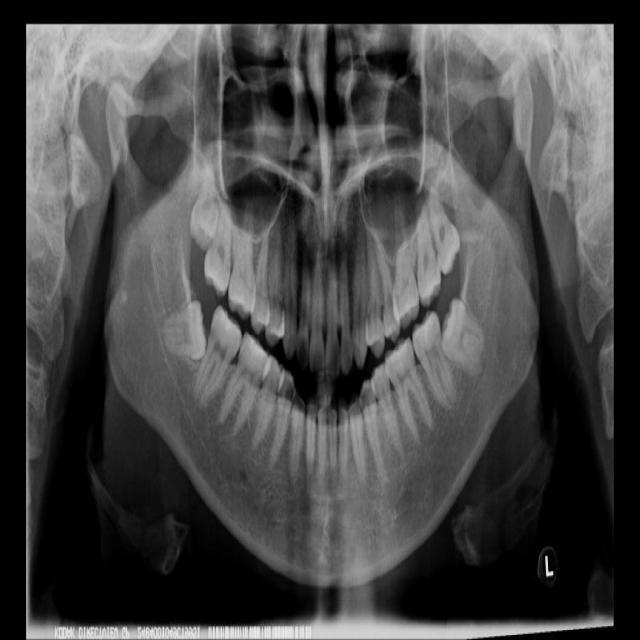3M ESPE Implant: (188, 143, 223, 252)
73: (620, 611, 630, 620)
BioHorizons Implant: (413, 195, 444, 308)
BioLife Implant: (422, 182, 467, 276)
Biomet 3i Implant: (440, 296, 484, 376)
Blue Sky Bio Implant: (406, 309, 460, 413)
Caries: (201, 166, 241, 298)
Implant: (187, 305, 250, 412)
Keystone Dental Implant: (158, 301, 209, 365)
